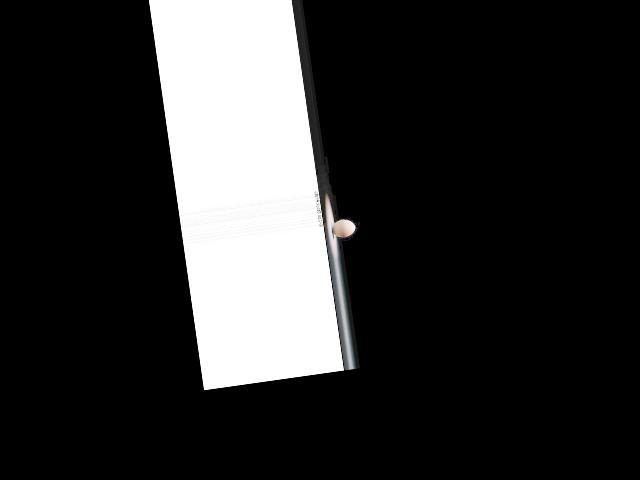egg: (330, 217, 356, 239)
